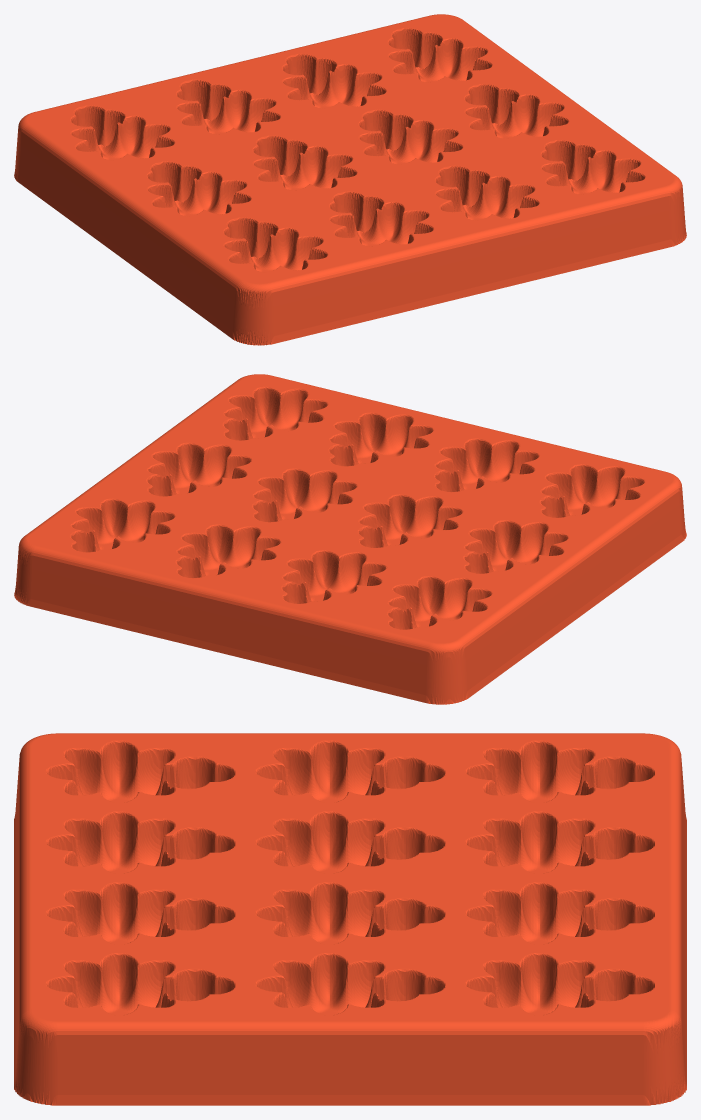
Rendered from mold.glb.
The picture shows the model from 3 angles, top to bottom: view 1: azimuth 30°, elevation 25°; view 2: azimuth 150°, elevation 25°; view 3: azimuth 270°, elevation 25°; orthographic projection. The views are drawn at different scales.
Visible parts, largest first — view 1: geometry_0; view 2: geometry_0; view 3: geometry_0.
Part boxes in pixels (x1,y1,x2,y2): geometry_0: [14, 14, 686, 345]; geometry_0: [14, 374, 686, 704]; geometry_0: [14, 733, 686, 1105].
Bounding box in the file's own units: 0.1473 × 0.0175 × 0.1389.
